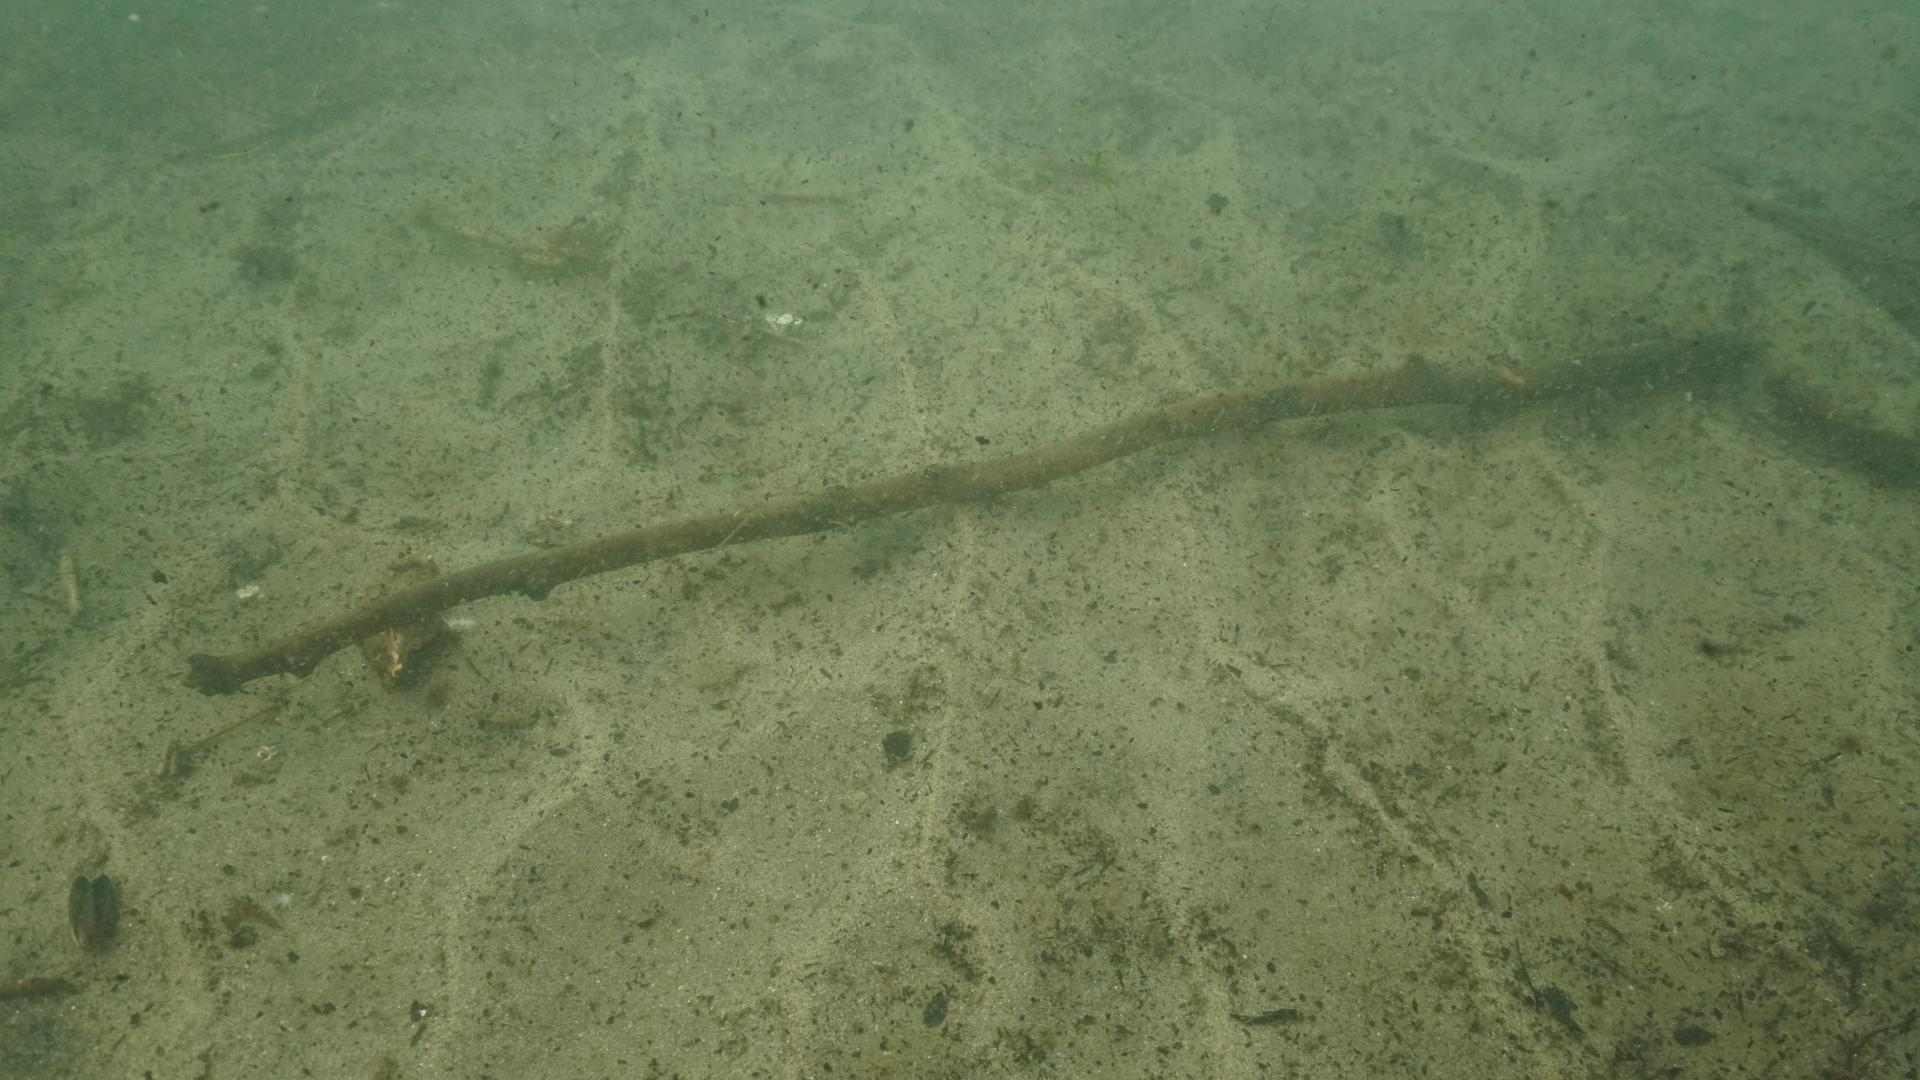wood: (179, 323, 1764, 698)
